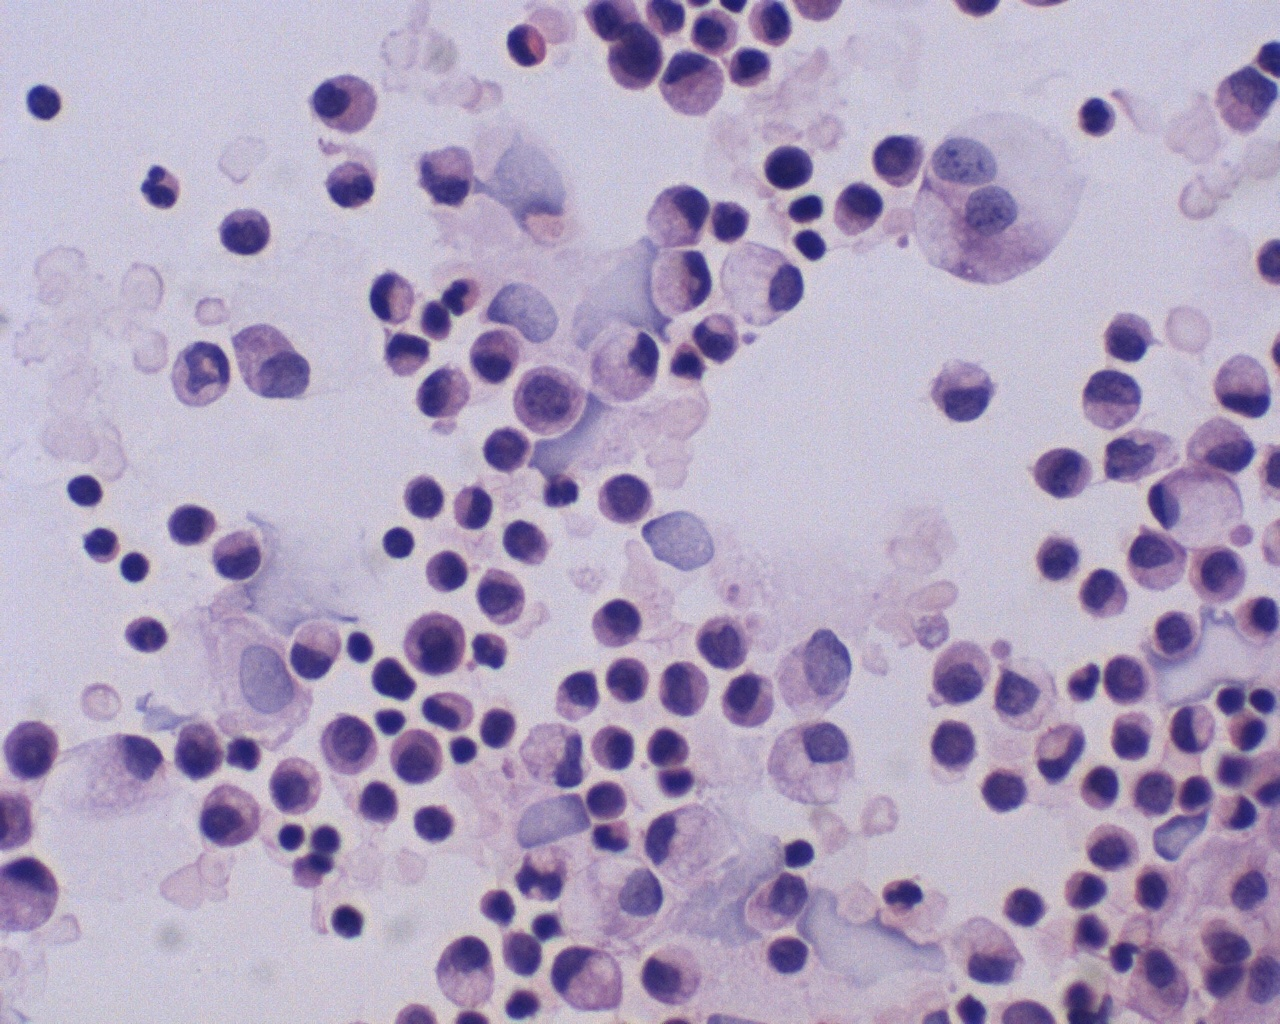ab: (511, 358, 589, 441), (389, 606, 472, 677), (1, 714, 70, 785), (1028, 443, 1096, 508), (869, 130, 937, 193), (317, 708, 378, 776), (604, 28, 667, 92), (591, 469, 656, 526), (758, 140, 823, 191), (1145, 603, 1201, 664), (1100, 649, 1150, 706)
histo: (717, 235, 811, 339), (1145, 459, 1250, 550), (763, 721, 860, 811), (580, 323, 667, 406), (546, 939, 630, 1016), (1210, 346, 1279, 421), (660, 51, 726, 122)
lymph: (59, 465, 118, 509), (22, 80, 64, 127), (376, 519, 420, 563), (115, 546, 156, 585), (267, 820, 310, 855), (448, 731, 483, 771)
meso: (307, 61, 393, 143)
neutro: (122, 609, 173, 659), (880, 868, 927, 923), (135, 159, 183, 210), (439, 269, 487, 317)
